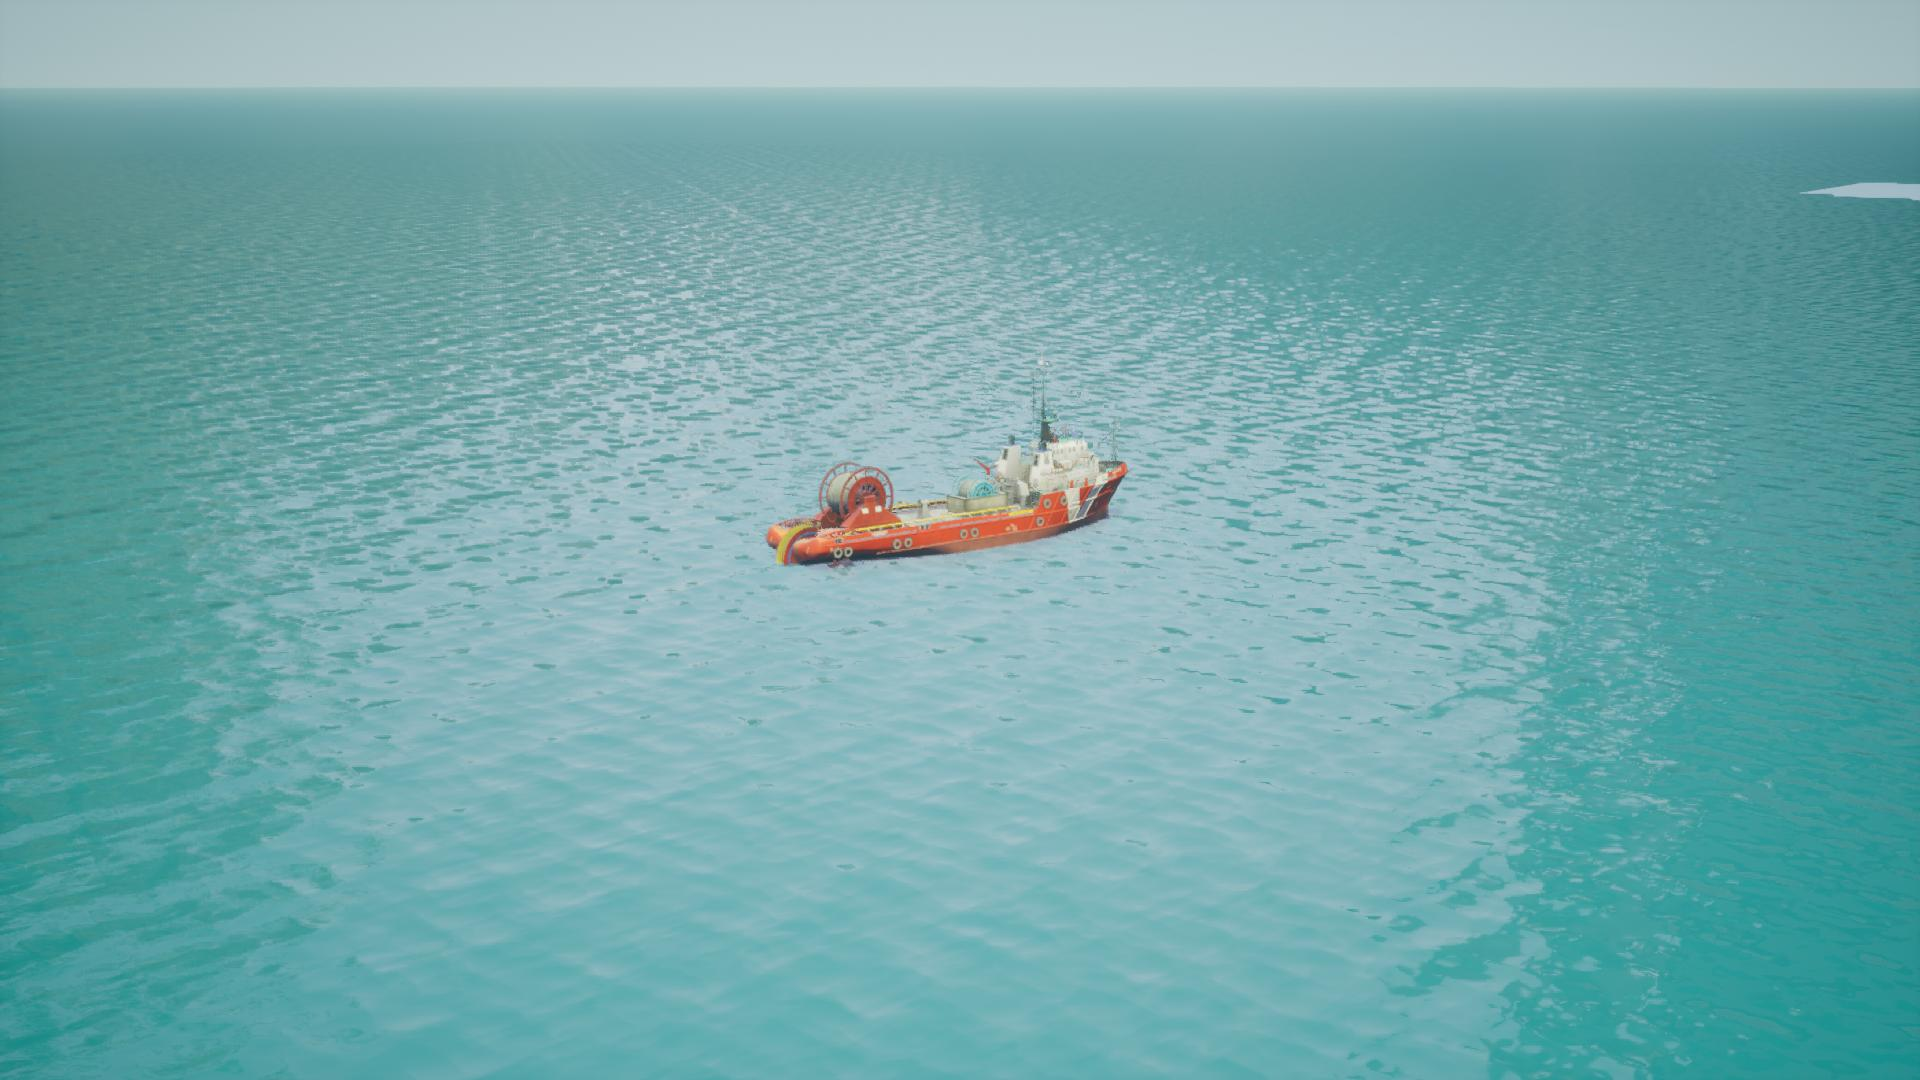Tug Boat: (767, 435, 1134, 566)
